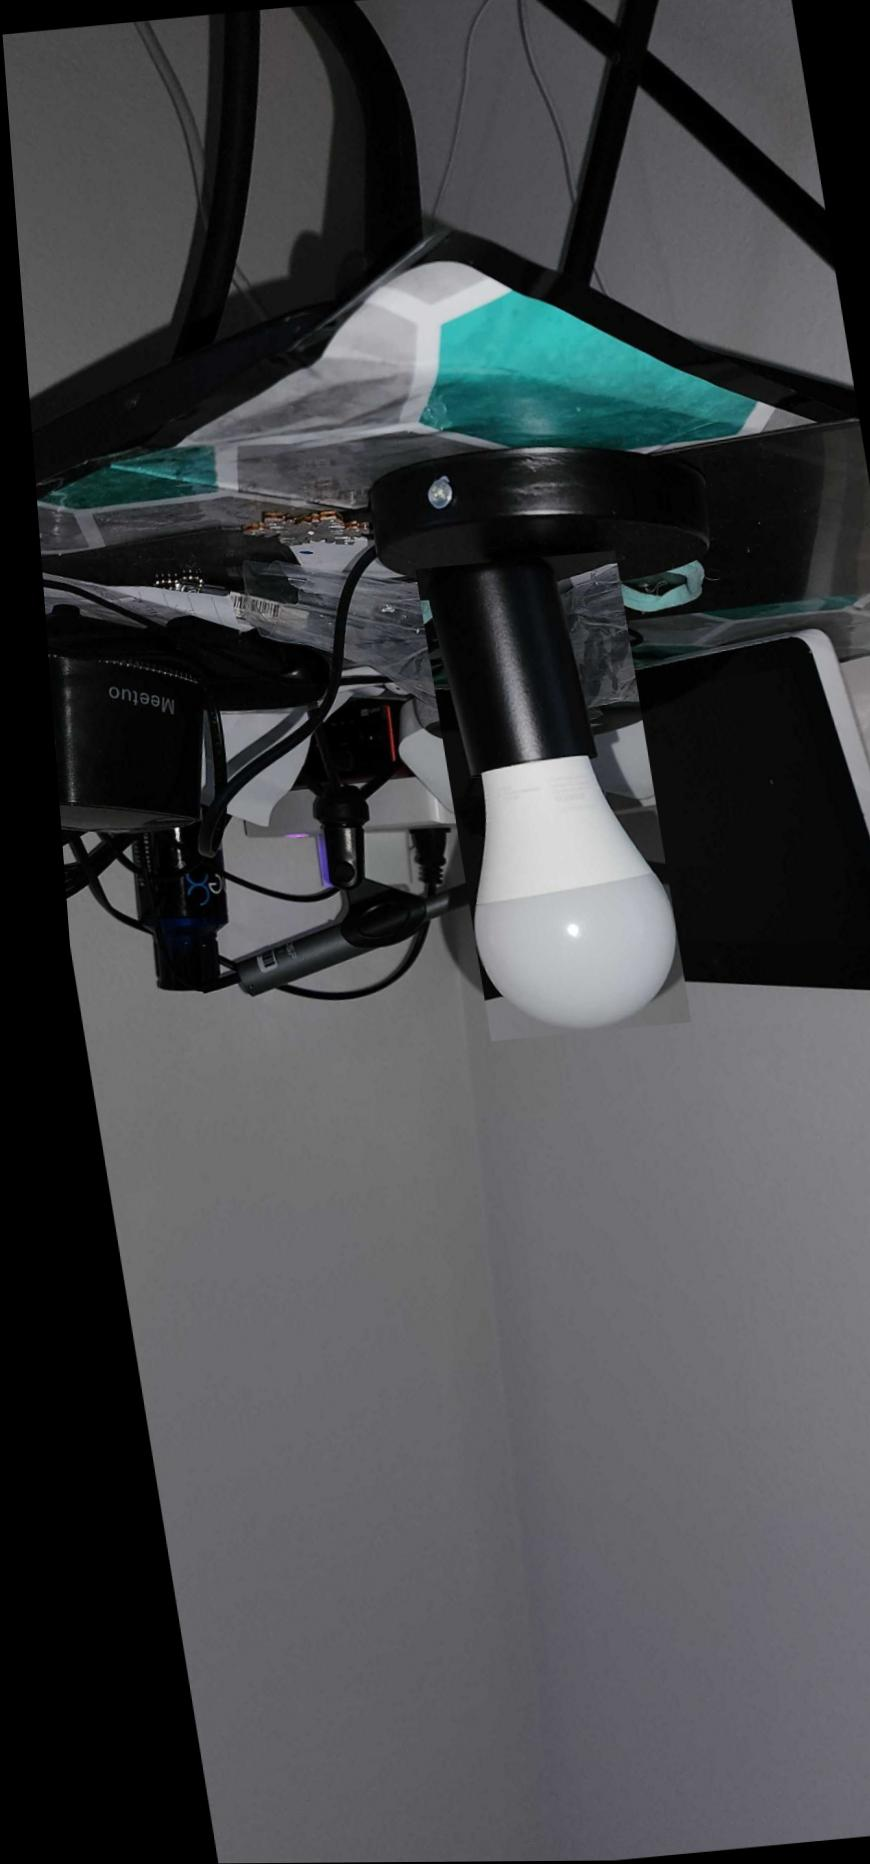Fan: (404, 550, 676, 1043)
